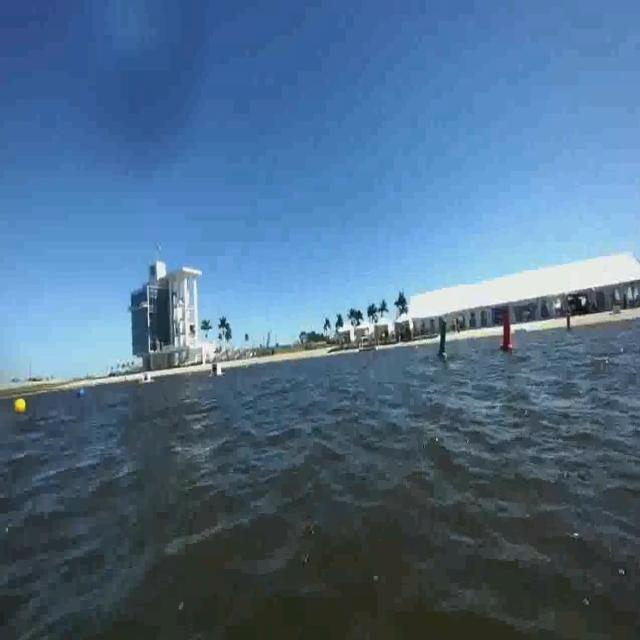green-column-buoy: (435, 318, 449, 360)
red-column-buoy: (499, 311, 515, 355)
yellow-buoy: (14, 398, 26, 417)
